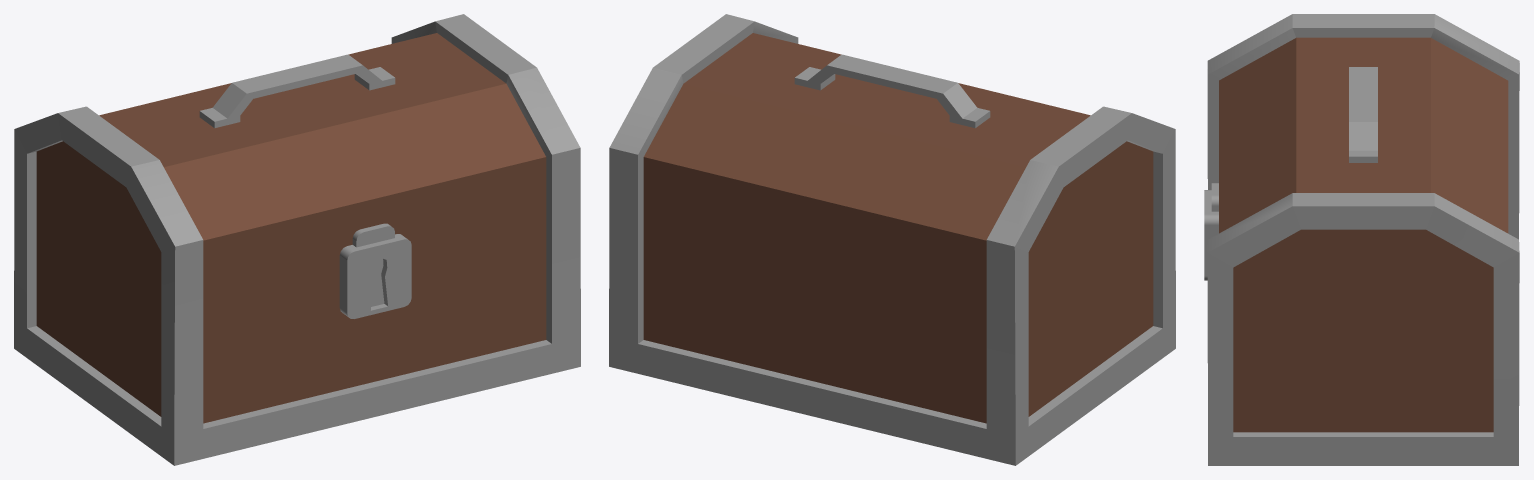
The model's file is Chest.fbx.
The picture shows the model from 3 angles, left to right: view 1: azimuth 30°, elevation 25°; view 2: azimuth 150°, elevation 25°; view 3: azimuth 270°, elevation 25°; orthographic projection. The views are drawn at different scales.
Visible parts, largest first — view 1: Chest; view 2: Chest; view 3: Chest.
Part boxes in pixels (x1,y1,x2,y2): Chest: (14, 14, 580, 465); Chest: (609, 14, 1175, 465); Chest: (1204, 14, 1519, 465).
Bounding box in the file's own units: 63 × 42 × 43.57.
